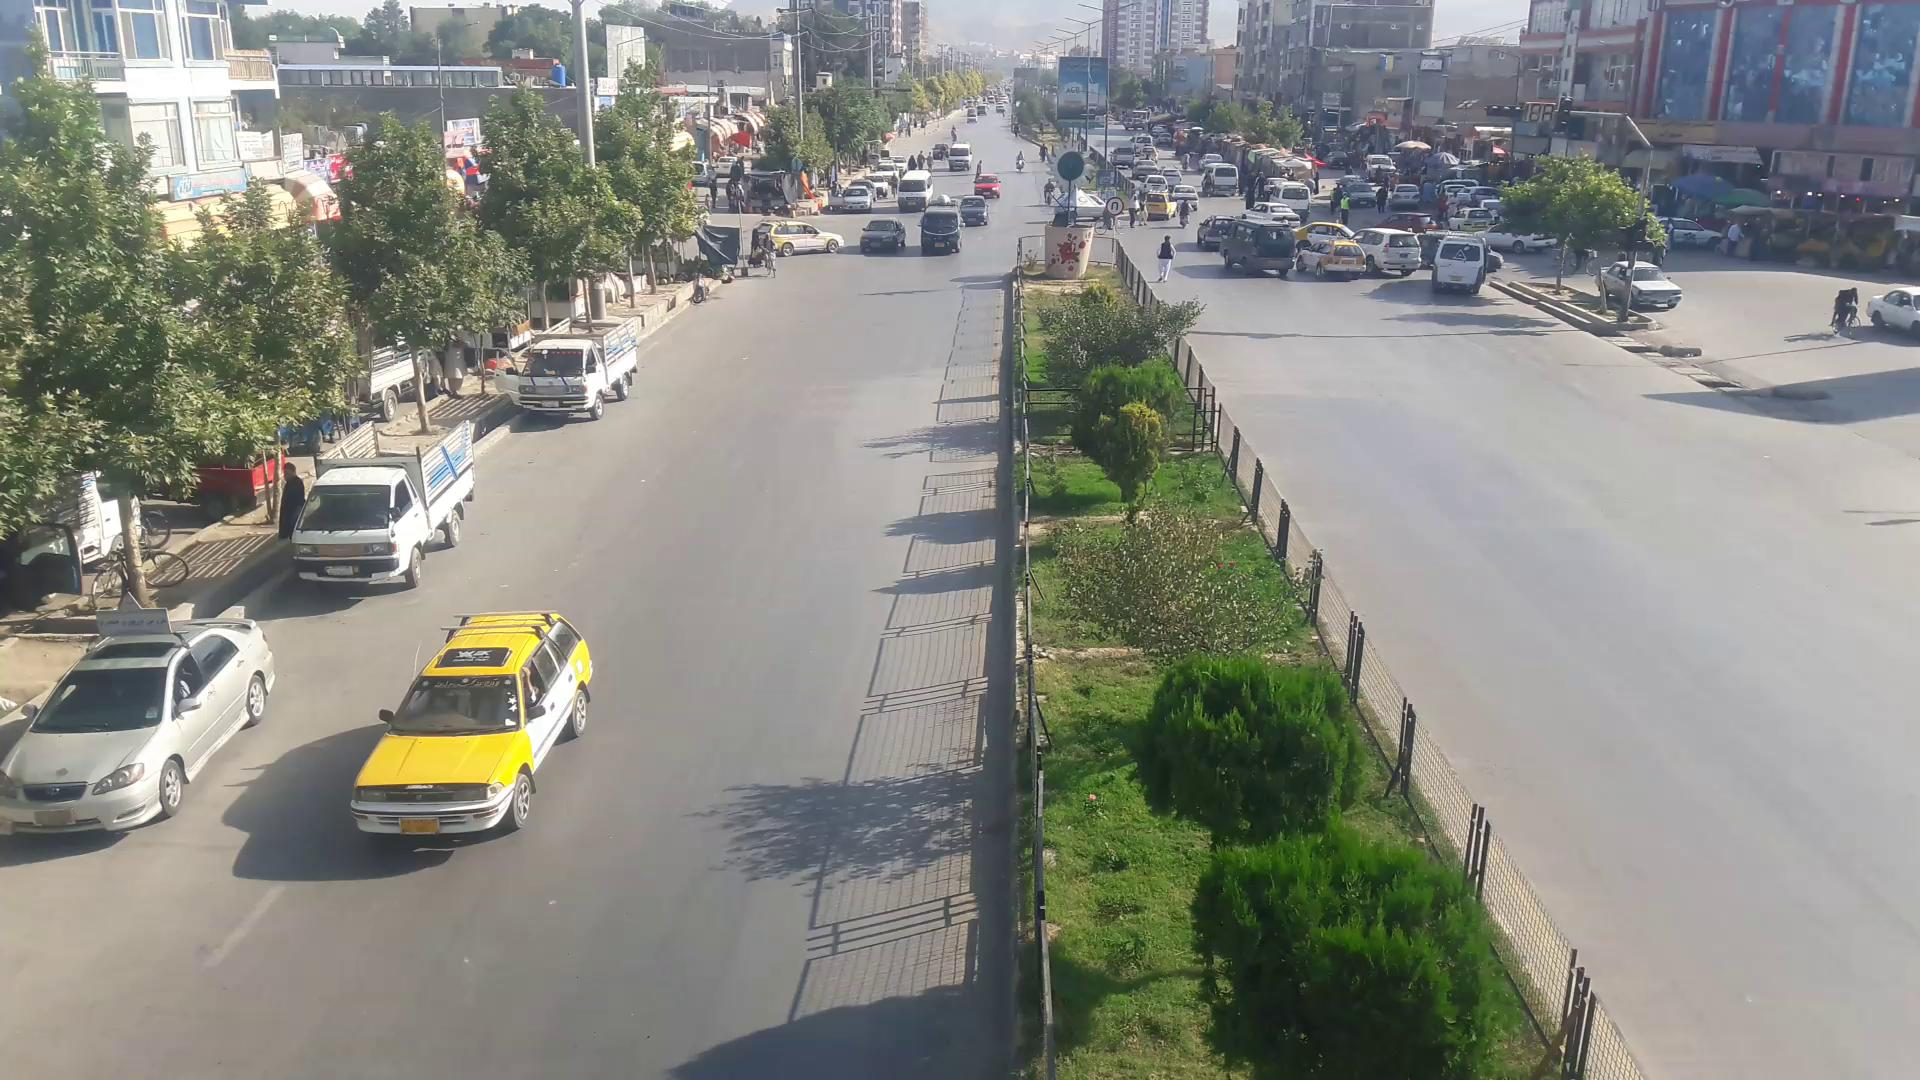bus: (1221, 222, 1296, 277)
car: (0, 617, 266, 842), (348, 610, 590, 830), (1593, 262, 1685, 316), (1434, 234, 1484, 295), (1301, 244, 1368, 276), (772, 226, 844, 255), (919, 210, 959, 253), (864, 219, 909, 253), (896, 171, 933, 210), (832, 190, 874, 214), (958, 200, 988, 229)
truck: (289, 432, 488, 583), (502, 321, 632, 413)
